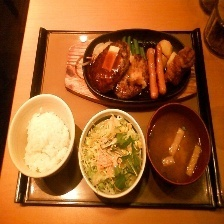rice: (19, 110, 73, 174)
